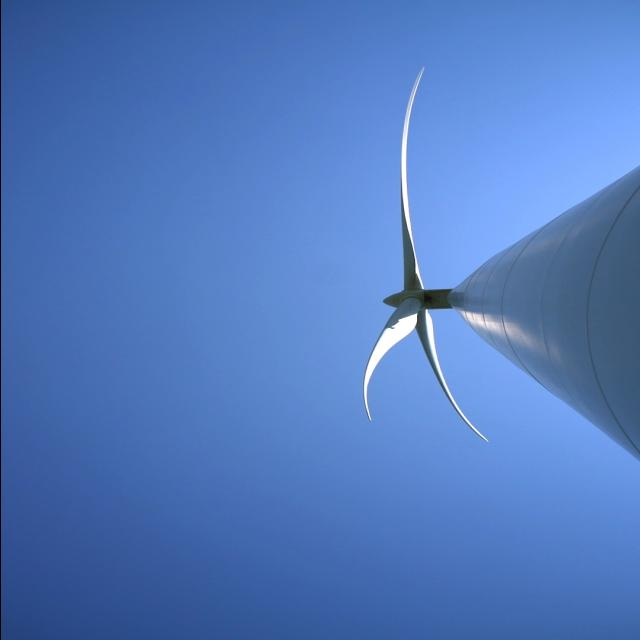blade 1: (380, 39, 430, 279)
blade 2: (358, 312, 419, 460)
blade 3: (425, 365, 495, 451)
